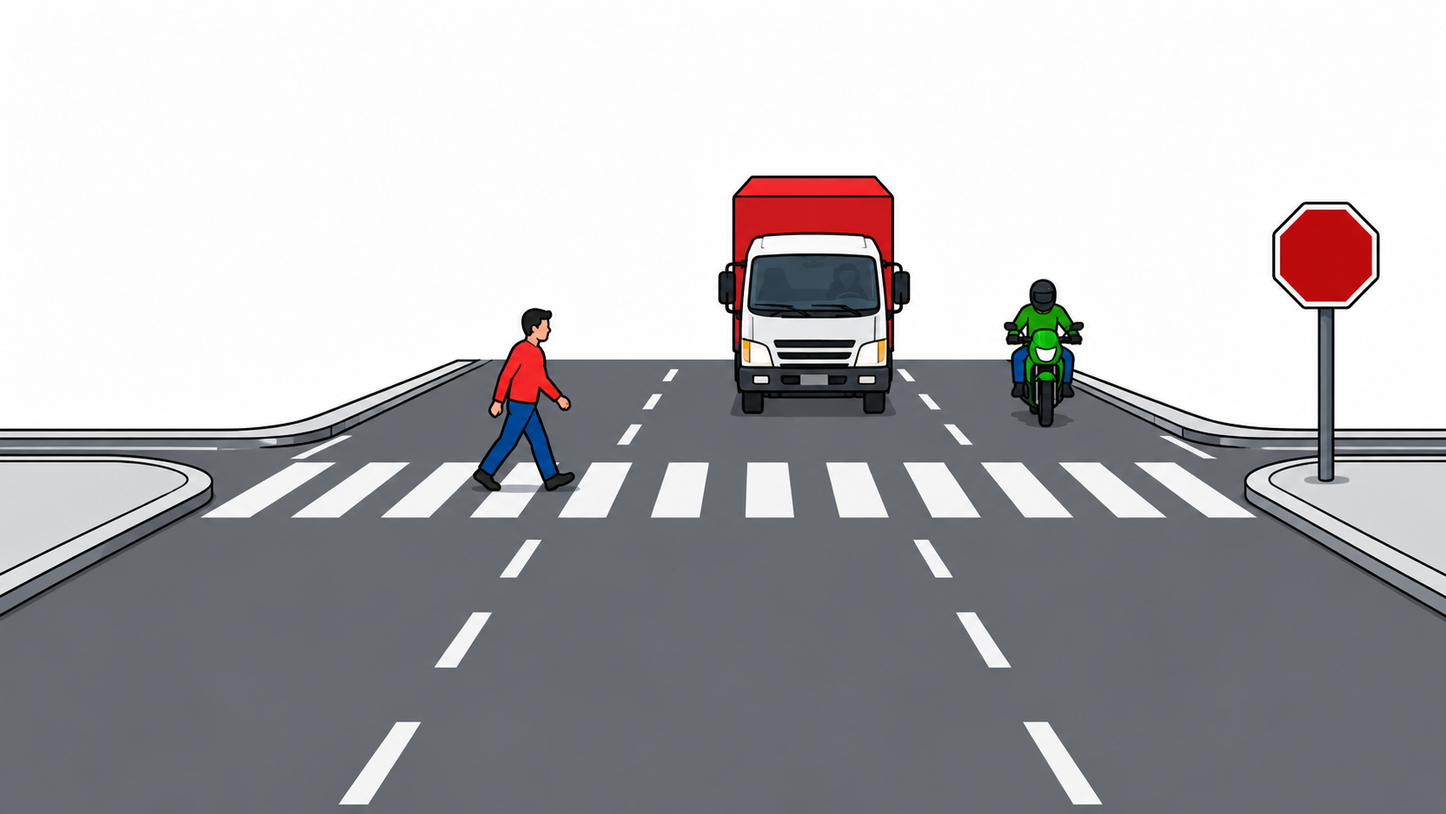motorcycle: (1001, 278, 1085, 428)
person: (474, 308, 573, 490), (1003, 279, 1084, 366)
stop_sign: (1271, 202, 1380, 311)
truck: (717, 175, 914, 415)
zebra_crossing: (219, 460, 1251, 524)
